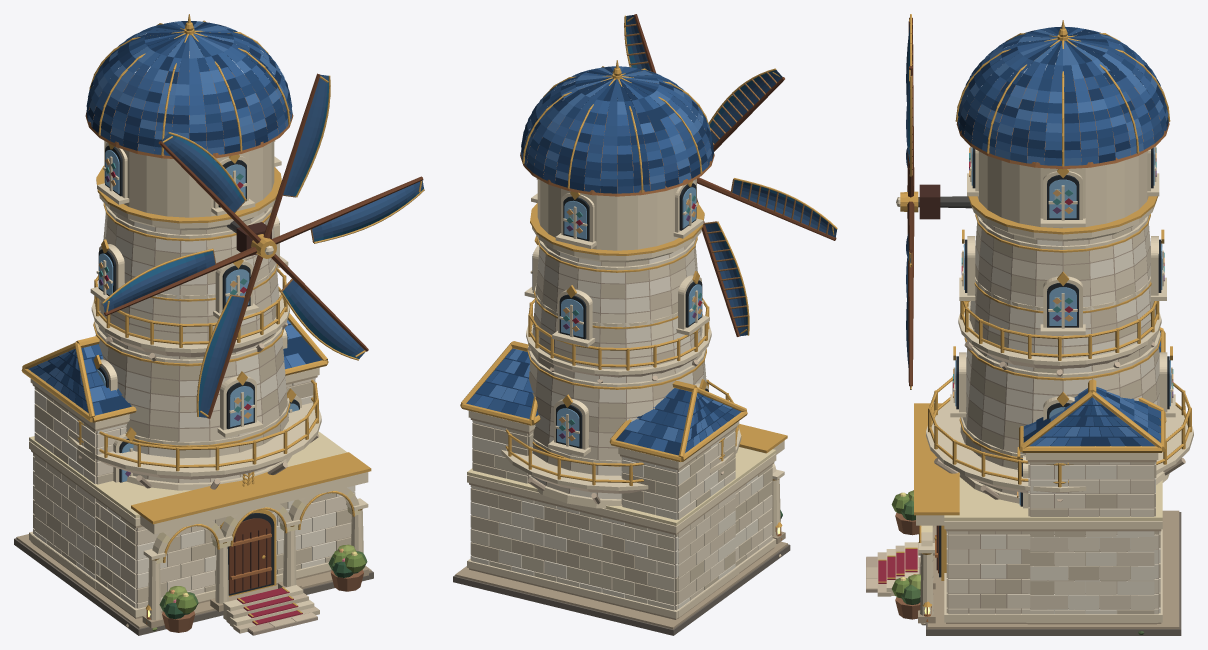
File: windmill-nivel-10.glb
3 views of the same model, side by side, from view 1: azimuth 30°, elevation 25°; view 2: azimuth 150°, elevation 25°; view 3: azimuth 270°, elevation 25° (orthographic). The views are drawn at different scales.
Visible parts, largest first — view 1: Moinho de vento 10 #e6d7ba, Moinho de vento 10 #d5a452, Moinho de vento 10 #ded1b9, Moinho de vento 10 #eae1ce, Moinho de vento 10 #cec1a8, Pás do moinho #355a83.001, Moinho de vento 10 #e8dcc5, Moinho de vento 10 #1b385b, Moinho de vento 10 #4670a0, Moinho de vento 10 #355f90, Pás do moinho #70432c.009, Moinho de vento 10 #2e5481 (+17 smaller); view 2: Moinho de vento 10 #e6d7ba, Moinho de vento 10 #cec1a8, Moinho de vento 10 #ded1b9, Moinho de vento 10 #eae1ce, Moinho de vento 10 #d5a452, Moinho de vento 10 #e8dcc5, Moinho de vento 10 #2e5481, Moinho de vento 10 #1b385b, Moinho de vento 10 #234771, Moinho de vento 10 #355f90, Moinho de vento 10 #b4a38a, Pás do moinho #355a83.001 (+12 smaller); view 3: Moinho de vento 10 #e6d7ba, Moinho de vento 10 #d5a452, Moinho de vento 10 #eae1ce, Moinho de vento 10 #e8dcc5, Moinho de vento 10 #ded1b9, Moinho de vento 10 #cec1a8, Moinho de vento 10 #355f90, Moinho de vento 10 #4670a0, Moinho de vento 10 #1b385b, Moinho de vento 10 #234771, Moinho de vento 10 #2e5481, Moinho de vento 10 #b4a38a (+16 smaller).
Part boxes in pixels (left/top/right/bottom): Moinho de vento 10 #e6d7ba: left=29, top=140, right=368, bottom=627; Moinho de vento 10 #d5a452: left=21, top=14, right=371, bottom=623; Moinho de vento 10 #ded1b9: left=34, top=209, right=355, bottom=608; Moinho de vento 10 #eae1ce: left=33, top=216, right=354, bottom=588; Moinho de vento 10 #cec1a8: left=33, top=216, right=351, bottom=602; Pás do moinho #355a83.001: left=103, top=74, right=423, bottom=417; Moinho de vento 10 #e8dcc5: left=33, top=210, right=355, bottom=608; Moinho de vento 10 #1b385b: left=34, top=21, right=321, bottom=413; Moinho de vento 10 #4670a0: left=38, top=21, right=305, bottom=402; Moinho de vento 10 #355f90: left=28, top=24, right=292, bottom=398; Pás do moinho #70432c.009: left=104, top=73, right=423, bottom=418; Moinho de vento 10 #2e5481: left=31, top=22, right=289, bottom=415; Moinho de vento 10 #e6d7ba: left=467, top=178, right=784, bottom=618; Moinho de vento 10 #cec1a8: left=470, top=242, right=772, bottom=604; Moinho de vento 10 #ded1b9: left=472, top=243, right=772, bottom=604; Moinho de vento 10 #eae1ce: left=470, top=247, right=763, bottom=608; Moinho de vento 10 #d5a452: left=460, top=60, right=787, bottom=527; Moinho de vento 10 #e8dcc5: left=470, top=247, right=772, bottom=610; Moinho de vento 10 #2e5481: left=466, top=66, right=741, bottom=451; Moinho de vento 10 #1b385b: left=475, top=66, right=734, bottom=455; Moinho de vento 10 #234771: left=475, top=68, right=734, bottom=448; Moinho de vento 10 #355f90: left=474, top=66, right=718, bottom=452; Moinho de vento 10 #b4a38a: left=455, top=418, right=787, bottom=629; Pás do moinho #355a83.001: left=627, top=15, right=836, bottom=336; Moinho de vento 10 #e6d7ba: left=886, top=146, right=1193, bottom=622; Moinho de vento 10 #d5a452: left=878, top=20, right=1191, bottom=607; Moinho de vento 10 #eae1ce: left=946, top=219, right=1160, bottom=614; Moinho de vento 10 #e8dcc5: left=946, top=220, right=1160, bottom=614; Moinho de vento 10 #ded1b9: left=946, top=220, right=1159, bottom=614; Moinho de vento 10 #cec1a8: left=946, top=219, right=1160, bottom=614; Moinho de vento 10 #355f90: left=959, top=28, right=1165, bottom=446; Moinho de vento 10 #4670a0: left=959, top=29, right=1168, bottom=446; Moinho de vento 10 #1b385b: left=959, top=26, right=1168, bottom=446; Moinho de vento 10 #234771: left=958, top=26, right=1166, bottom=432; Moinho de vento 10 #2e5481: left=957, top=28, right=1166, bottom=446; Moinho de vento 10 #b4a38a: left=918, top=460, right=1179, bottom=628.
Size of the model in its own units: 8.36 by 13.51 by 7.19.
